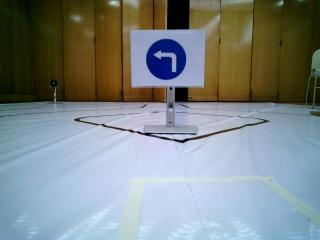left: (139, 35, 199, 82)
